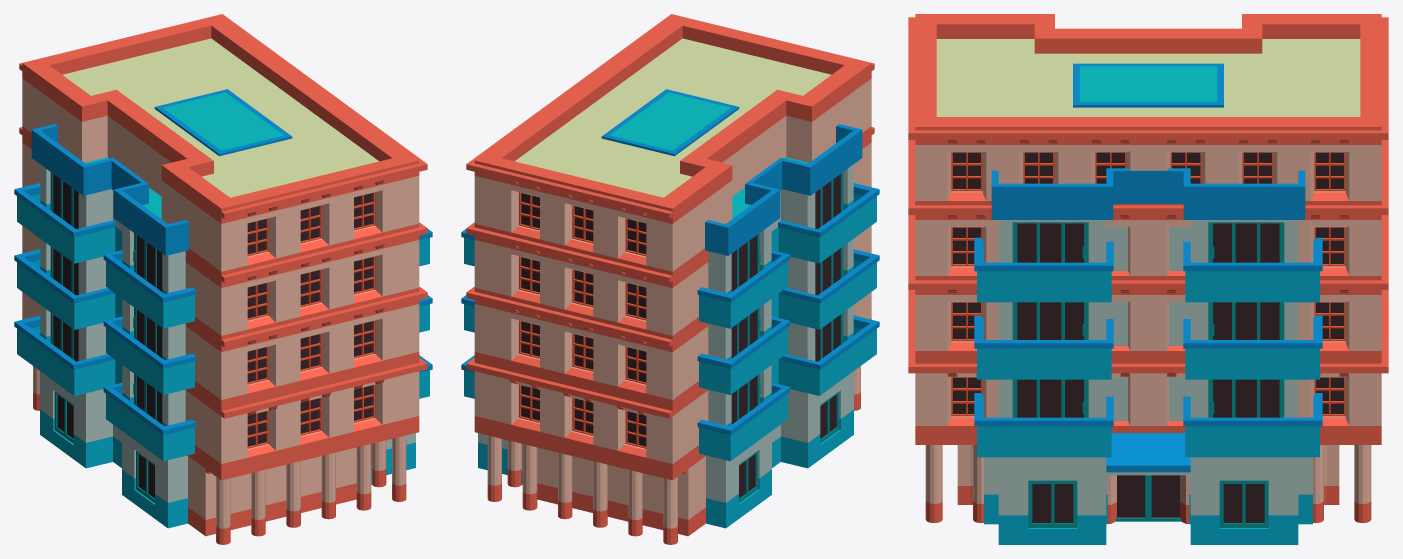
The model's file is accommodations.glb.
3 renders of one model, left to right at view 1: azimuth 30°, elevation 25°; view 2: azimuth 150°, elevation 25°; view 3: azimuth 270°, elevation 25°, orthographic. The views are drawn at different scales.
Visible parts, largest first — view 1: PublicBuilding_10, PublicBuilding_8; view 2: PublicBuilding_10, PublicBuilding_8; view 3: PublicBuilding_10, PublicBuilding_8.
Part boxes in pixels (<box>): PublicBuilding_10: <box>19,14,427,544</box>; PublicBuilding_8: <box>14,89,432,528</box>; PublicBuilding_10: <box>466,14,874,544</box>; PublicBuilding_8: <box>461,89,879,528</box>; PublicBuilding_10: <box>908,14,1388,523</box>; PublicBuilding_8: <box>974,63,1322,544</box>.
Bounding box in the file's own units: 2.29 × 2.77 × 3.02.
Materials: 1 (1 with a texture image).
